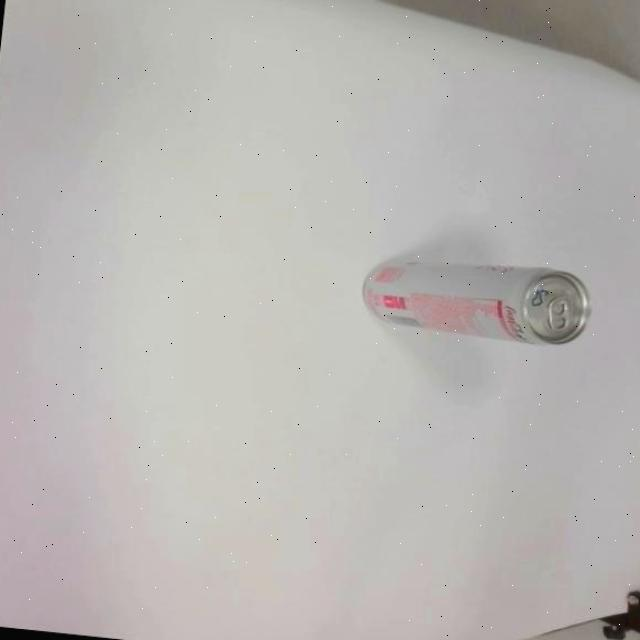debris: (356, 245, 596, 351)
